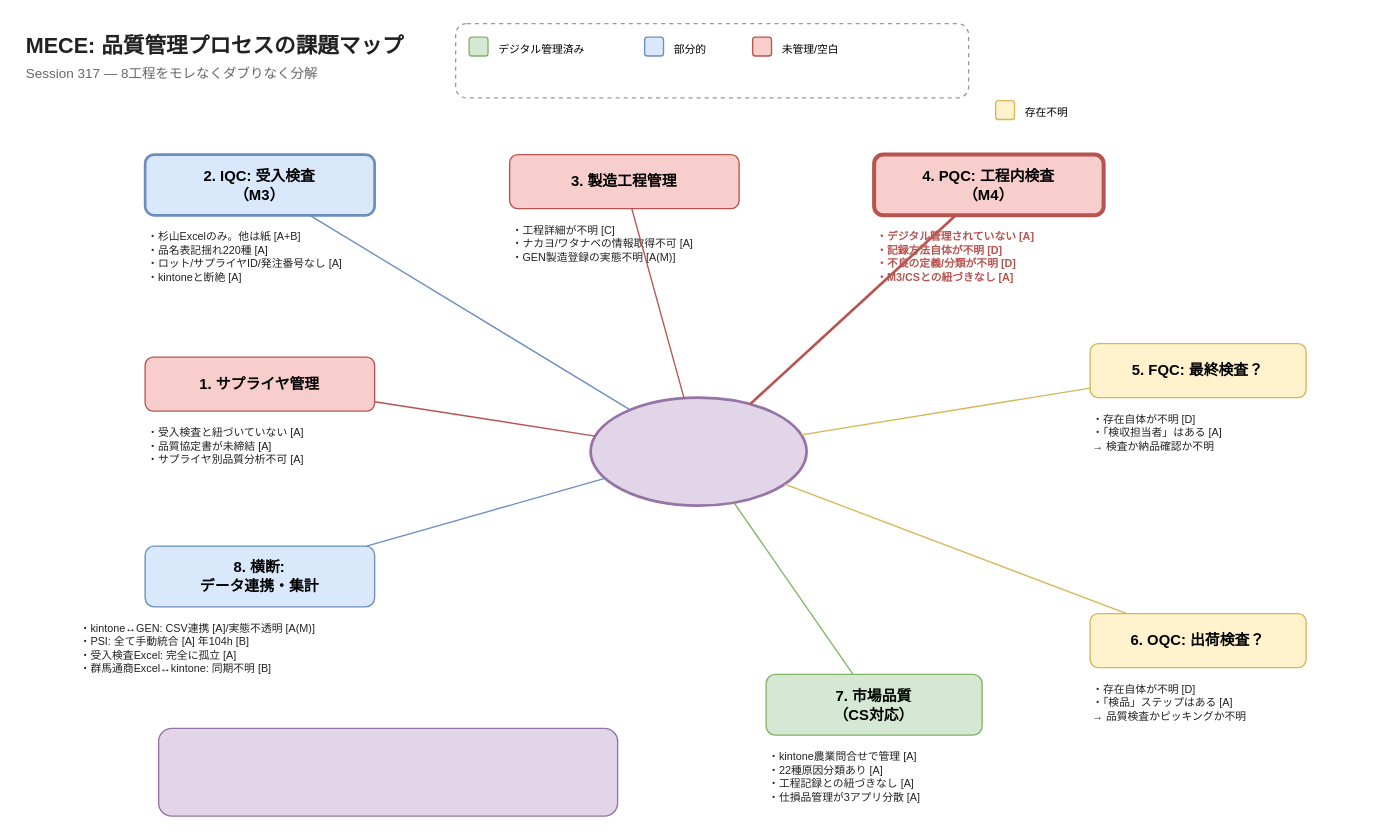
This 1396x840 diagram has some shape labels left out. Each missing label, with the centre of its shape:
MECEチェック: ・モレ: FQC/OQCも含めた（存在不明でも漏らさない） ・ダブり: 各工程は時系列で排他的 ・横断（8）はプロセス横断の課題を分離: [387,771]
品質管理プロセス の課題: [698,451]
